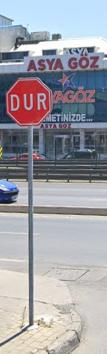stop: (6, 77, 52, 124)
